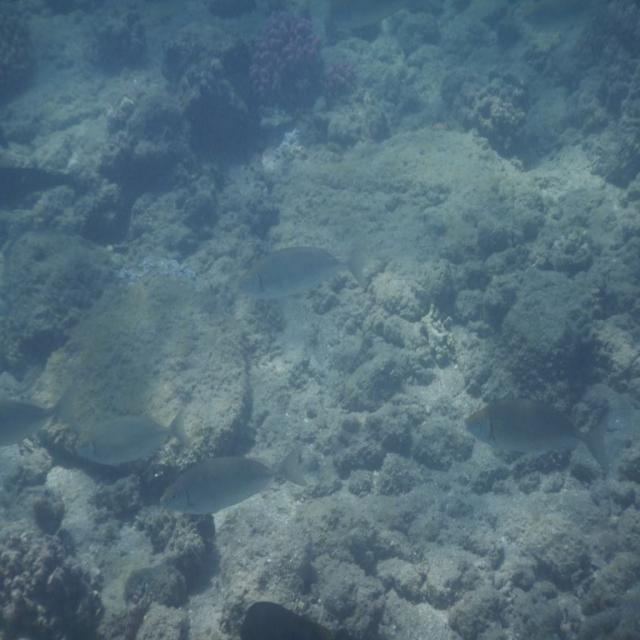Sokar Baligi: (233, 230, 393, 306)
